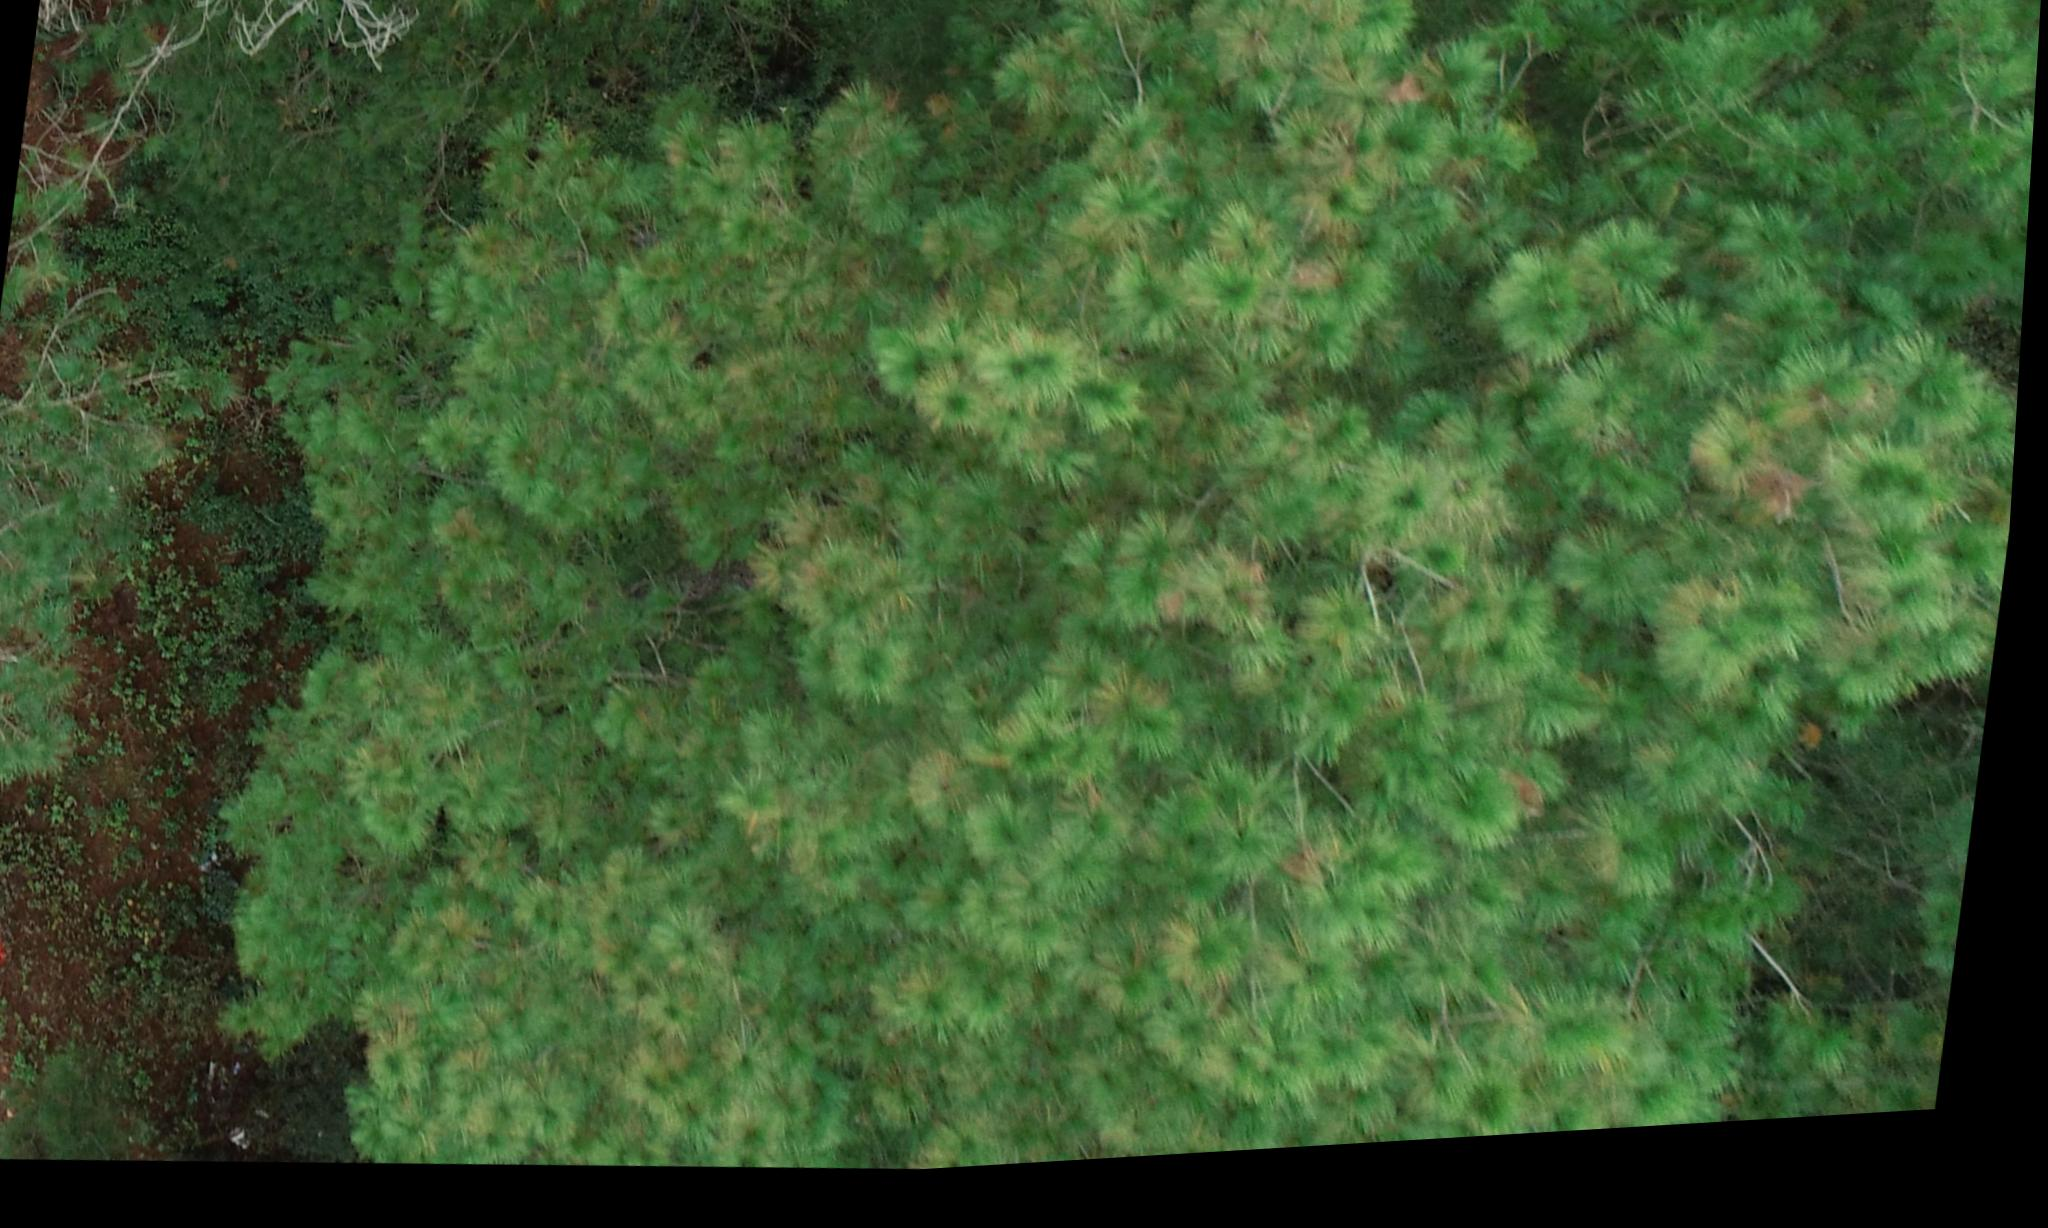light: (409, 0, 2048, 1206)
